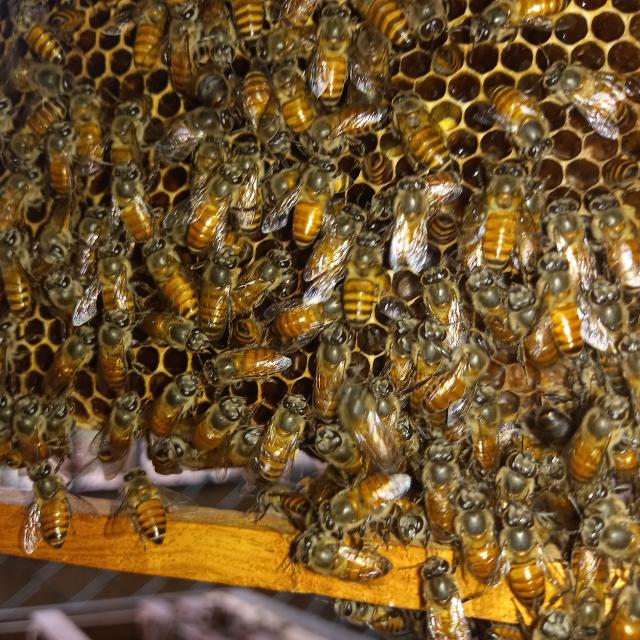honeybee: (279, 94, 381, 154), (564, 49, 620, 150), (461, 161, 515, 265), (481, 77, 550, 156), (300, 3, 364, 87), (21, 474, 82, 558), (408, 554, 472, 633), (110, 478, 182, 547), (166, 15, 223, 101), (143, 234, 210, 306), (467, 0, 574, 44), (389, 89, 454, 161), (216, 344, 304, 396), (99, 166, 165, 234), (426, 323, 465, 437), (379, 168, 430, 255), (588, 185, 630, 289), (15, 116, 74, 189), (39, 337, 106, 399), (266, 392, 302, 501), (95, 377, 148, 451), (279, 299, 354, 351), (286, 539, 376, 582), (283, 151, 333, 227), (310, 482, 412, 519), (450, 489, 500, 564), (496, 511, 540, 596), (474, 380, 517, 466), (311, 323, 348, 420), (550, 585, 619, 635), (90, 244, 145, 306), (202, 254, 245, 333), (389, 0, 450, 55), (320, 198, 353, 298), (344, 236, 379, 327), (322, 590, 394, 634), (464, 271, 509, 341), (533, 185, 577, 255), (120, 107, 161, 182), (237, 255, 285, 316), (0, 245, 48, 306), (117, 0, 158, 71), (62, 91, 104, 160), (533, 266, 573, 338), (567, 405, 601, 489), (19, 15, 68, 70), (1, 403, 54, 453), (196, 395, 243, 450), (537, 456, 571, 530), (224, 117, 270, 169), (193, 154, 224, 230), (503, 456, 536, 524), (415, 268, 461, 316), (99, 319, 138, 375), (151, 367, 183, 427), (596, 513, 640, 556), (298, 428, 372, 449)
